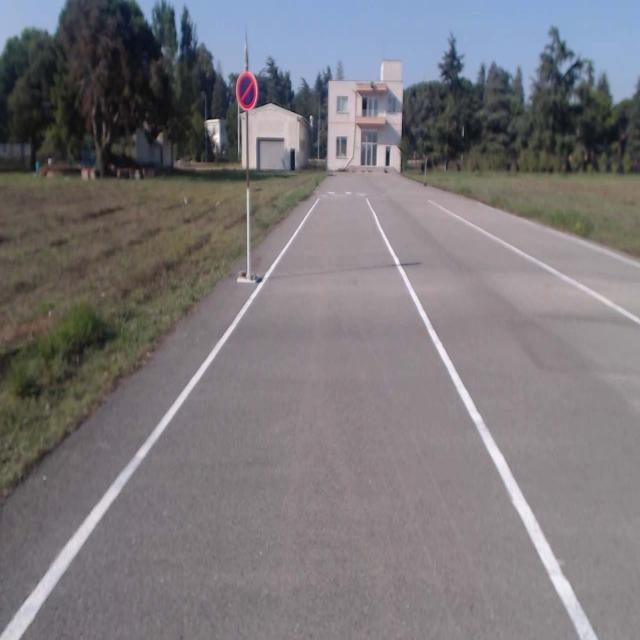parkyasak: (235, 70, 259, 110)
